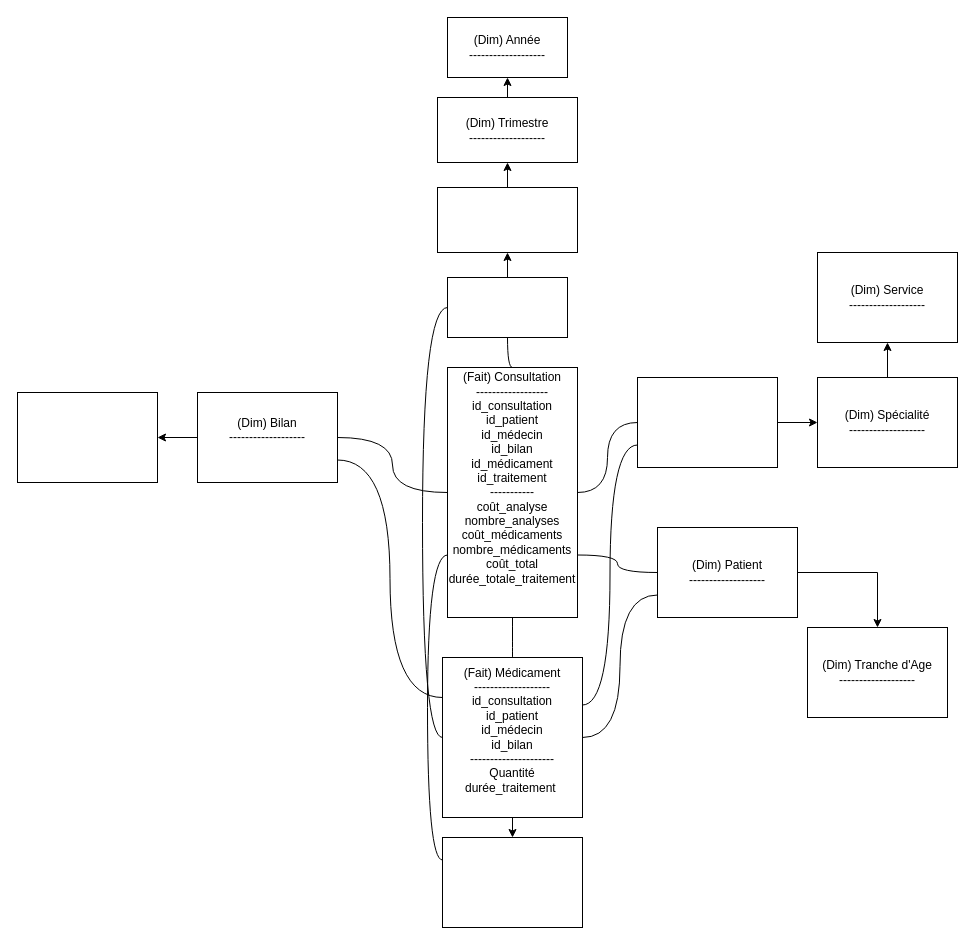
Image size: 975x945. Some labels were removed from this diagram. The centre of each missing label's shape, as x and y in pixels:
(Dim) Analyse Médicale ------------------- id type val_min val_max: [87,437]
(Dim) Jour -------------------: [507,307]
(Dim) Mois -------------------: [507,219]
(Dim) Médecin -------------------: [707,422]
(Dim) Traitement -------------------: [512,882]
